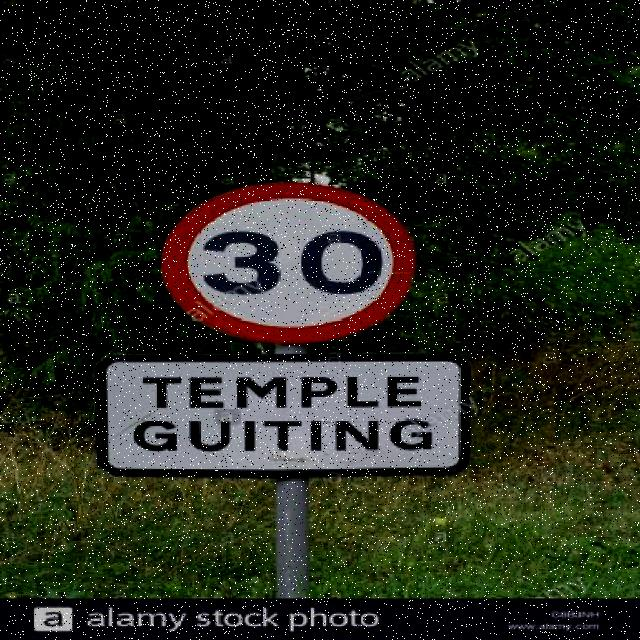Ograniczenie predkosci do 30: (162, 186, 420, 346)
